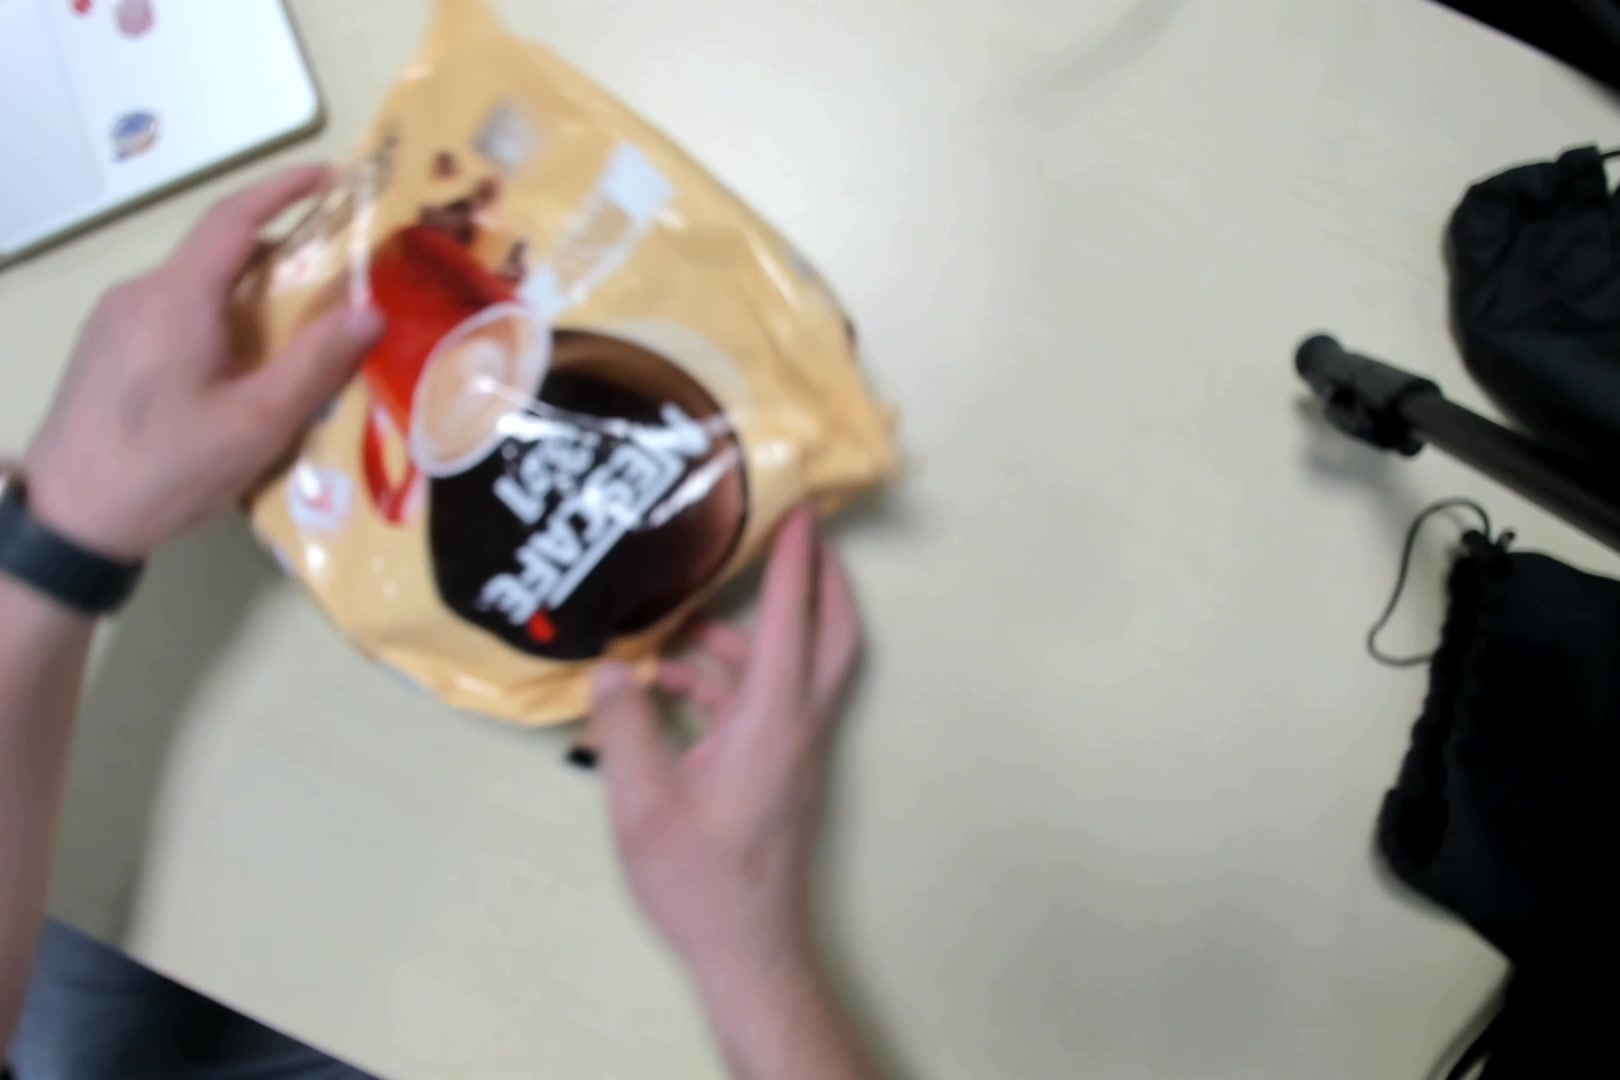Coffee(Powder)_500-599g_Halal_Healthy: (227, 16, 877, 716)
